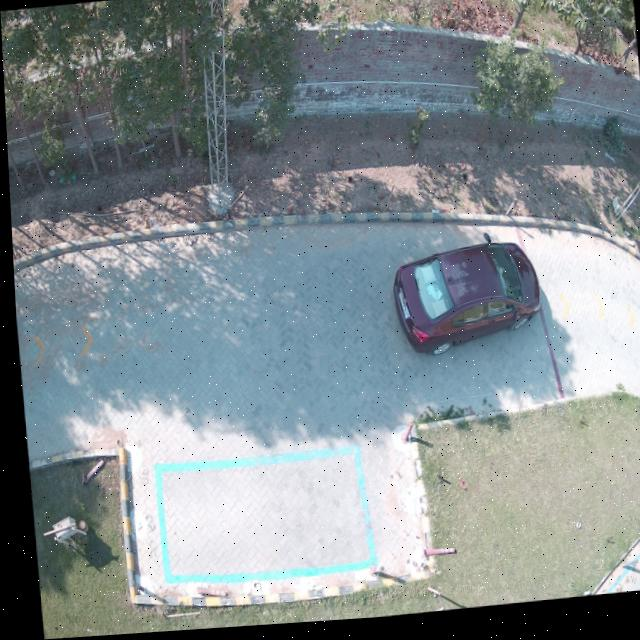car: (390, 240, 537, 359)
